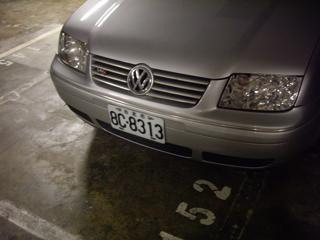plate: (105, 102, 168, 146)
